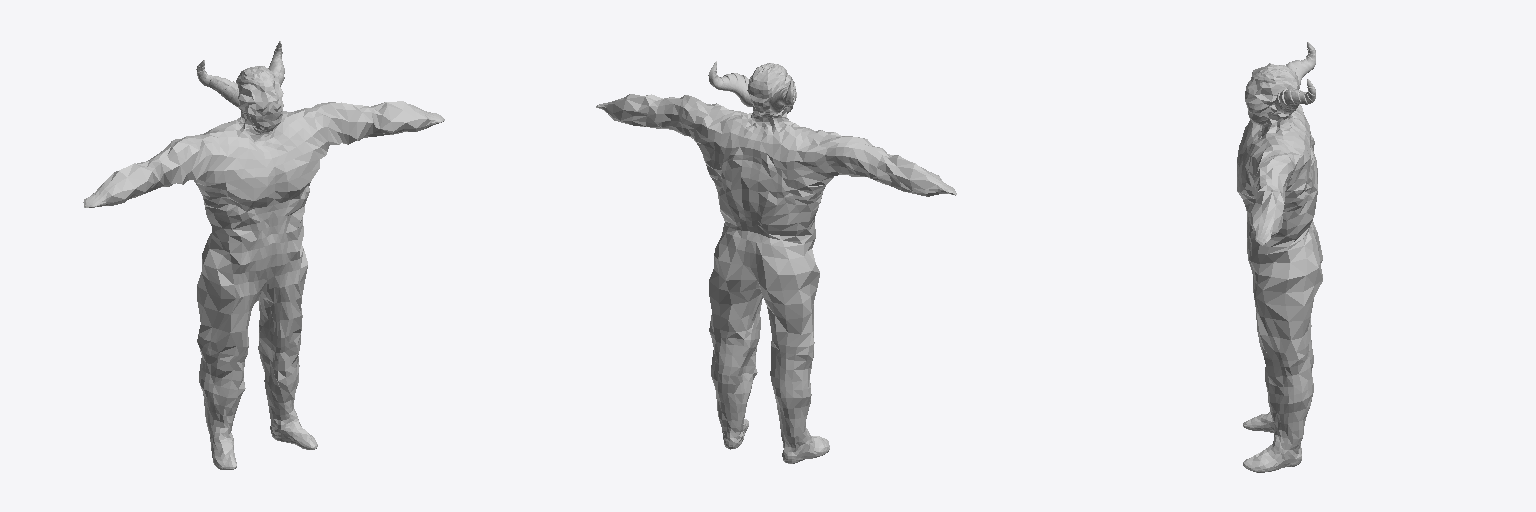
Rendered from Character_ZBrush2.OBJ.
The picture shows the model from 3 angles: view 1: azimuth 30°, elevation 25°; view 2: azimuth 150°, elevation 25°; view 3: azimuth 270°, elevation 25°; orthographic projection.
Parts seen in each view (by area): view 1: Group57014, Group7413; view 2: Group57014, Group7413; view 3: Group57014, Group7413.
Part boxes in pixels (bbox=[...]): Group57014: bbox=[83, 66, 444, 469]; Group7413: bbox=[196, 41, 284, 107]; Group57014: bbox=[596, 63, 956, 463]; Group7413: bbox=[708, 61, 796, 113]; Group57014: bbox=[1237, 63, 1322, 472]; Group7413: bbox=[1275, 42, 1315, 113].
Size of the model in its own units: 4.91 by 5.09 by 1.02.